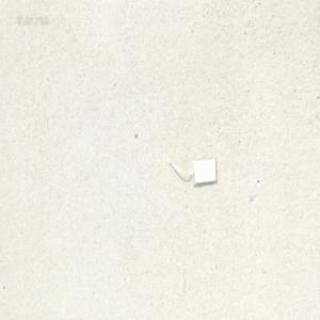LuggageTagtrack_idkeyframe: (166, 156, 217, 184)
